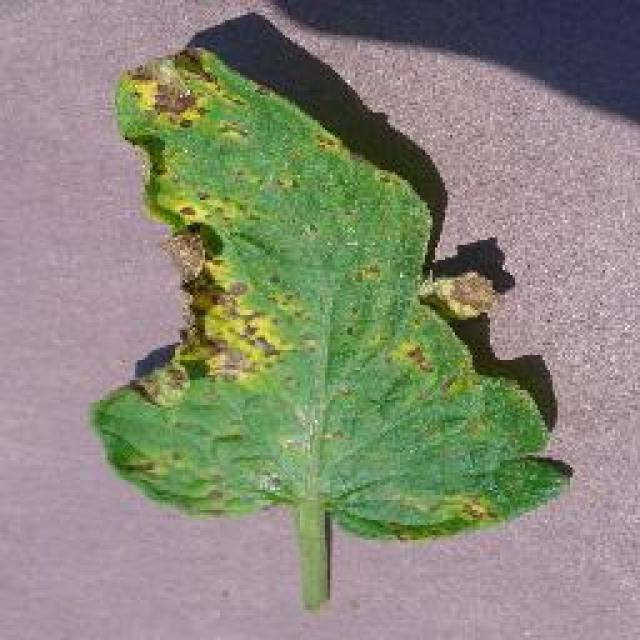Tomato___Septoria_leaf_spot: (92, 48, 562, 605)
